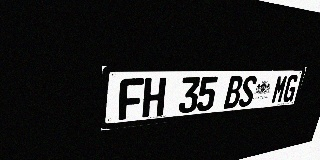3: (178, 77, 201, 114)
5: (196, 76, 218, 112)
B: (223, 76, 244, 109)
F: (118, 78, 144, 120)
G: (282, 75, 299, 103)
H: (142, 78, 166, 118)
M: (270, 75, 289, 104)
S: (238, 76, 258, 107)
